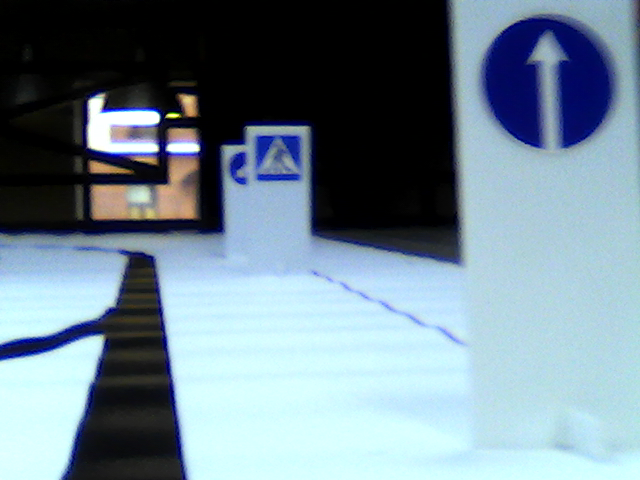forw: (481, 13, 623, 157)
pesh: (252, 133, 303, 180)
